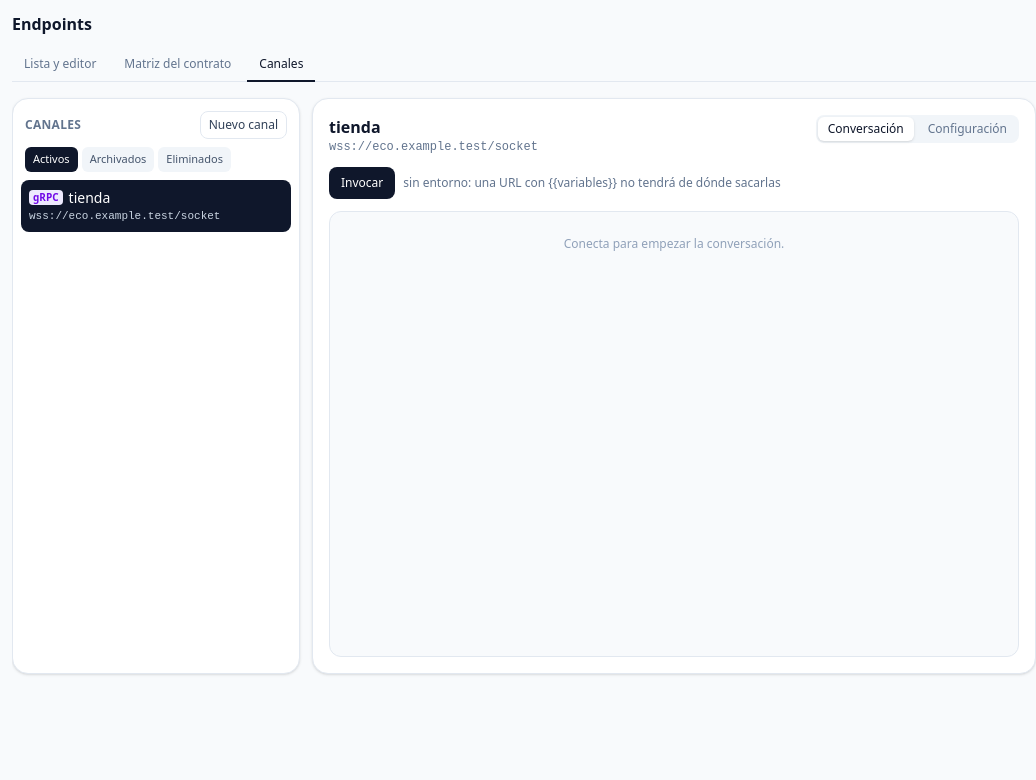
it: los botones de la conversación › gRPC: invocar dice «Invocando…» mientras tanto
The width and height of the screenshot is (1036, 780).
Click the button "Invocar". click: (362,183)
box: [329,167,395,199]
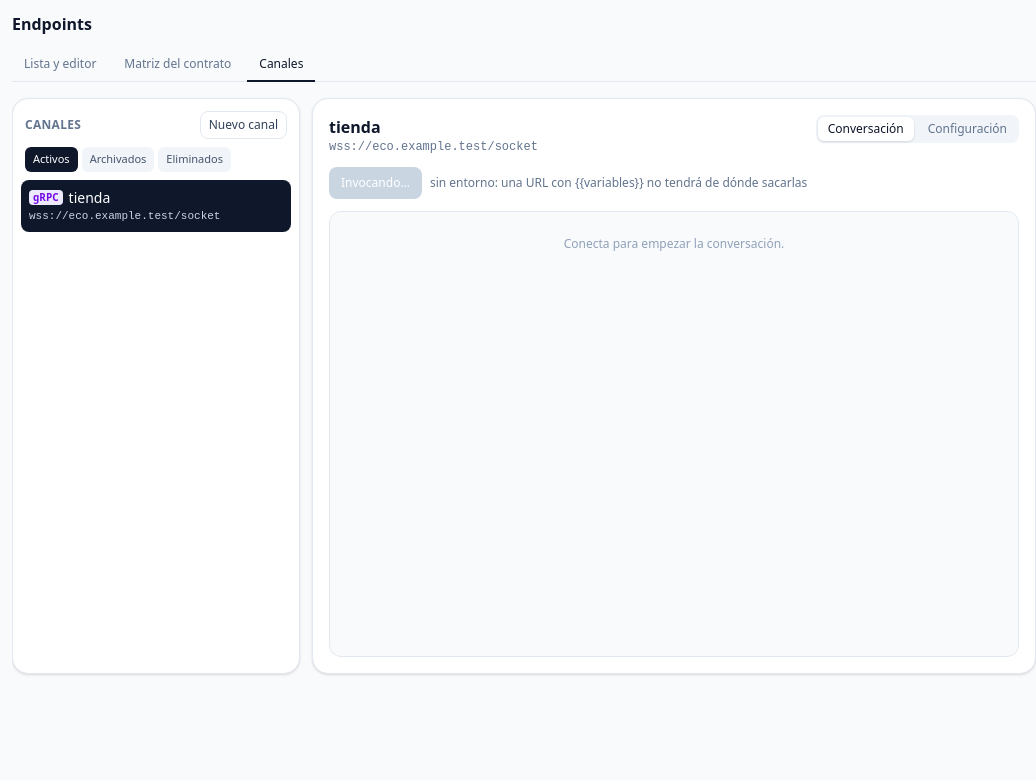
Expected: the button "Invocando…" is shown, [329,167,422,199]
